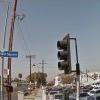Traffic light: (43, 28, 77, 80)
